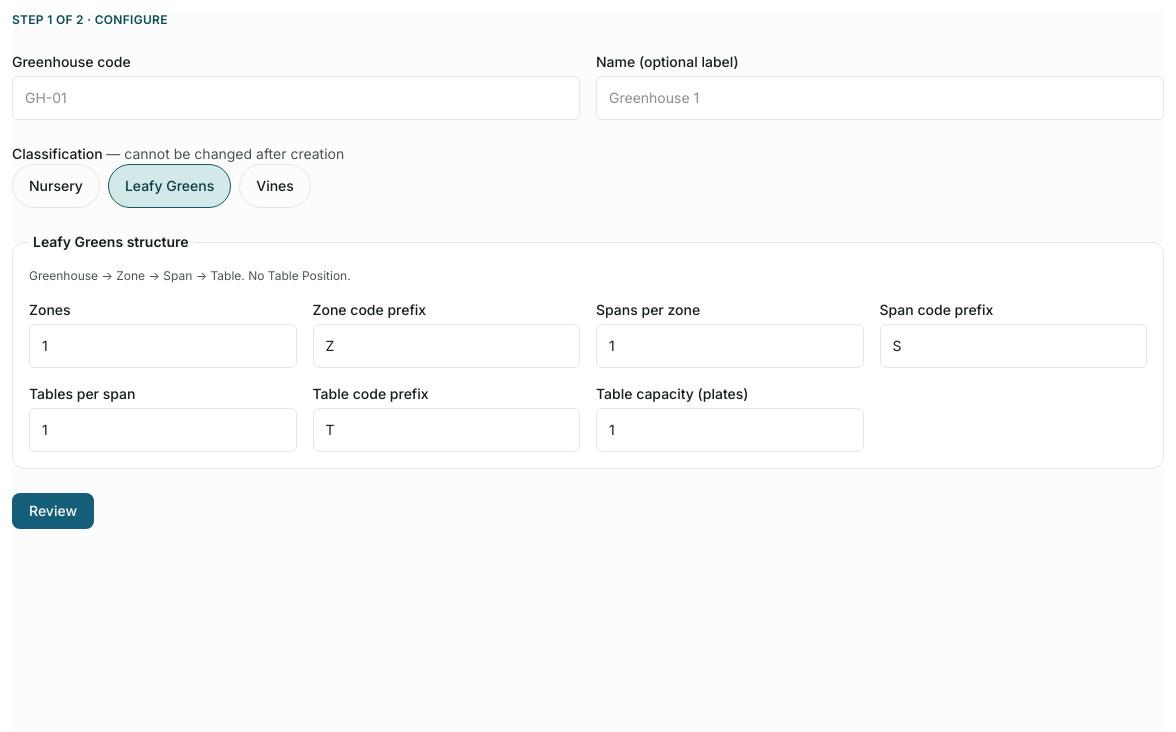
Test: GreenhouseSetupForm › shows the Germination Trolleys generator directly inside Germination Chamber, with no separate enable/disable toggle
Step 1. Click the radio button labelled "Nursery" → x=56, y=186, box [12, 164, 100, 208]
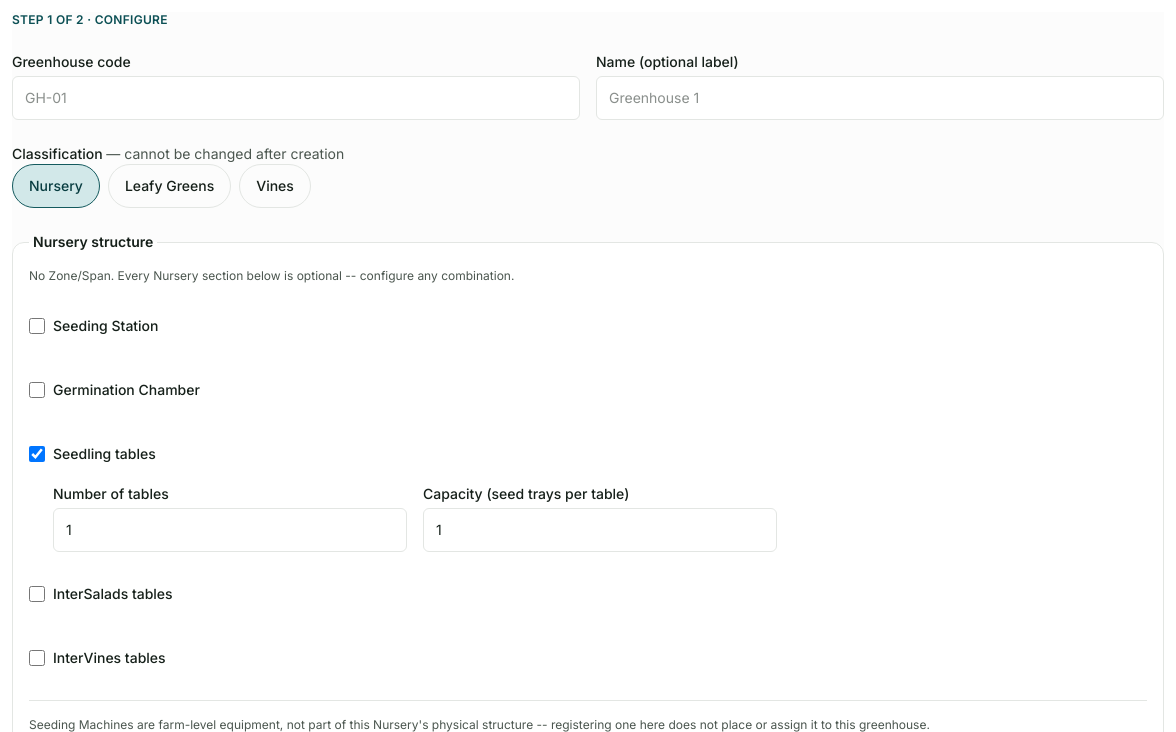
Expected: the text "Number of Germination Trolleys" is not shown
Step 2. Click the text "Germination Chamber" → x=114, y=390, box [29, 381, 200, 398]
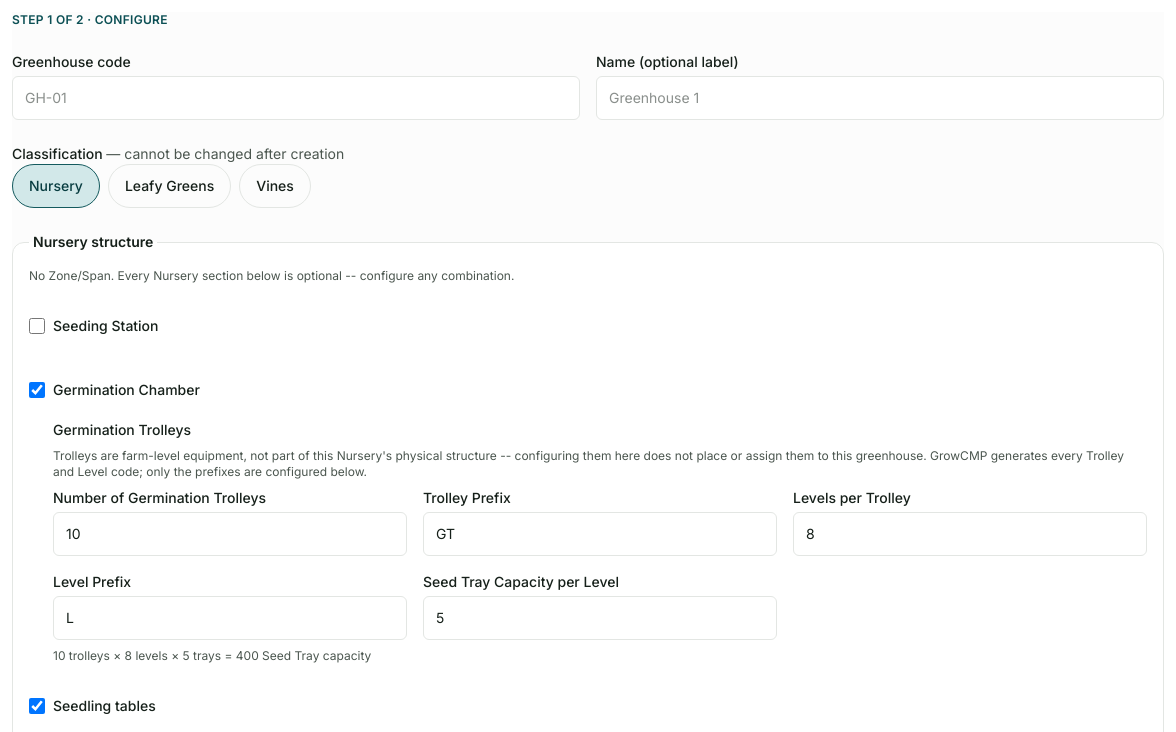
Expected: the text "Number of Germination Trolleys" is shown, [53, 489, 266, 506]
Expected: the text "Trolley Prefix" is shown, [423, 489, 511, 506]
Expected: the text "Levels per Trolley" is shown, [793, 489, 911, 506]
